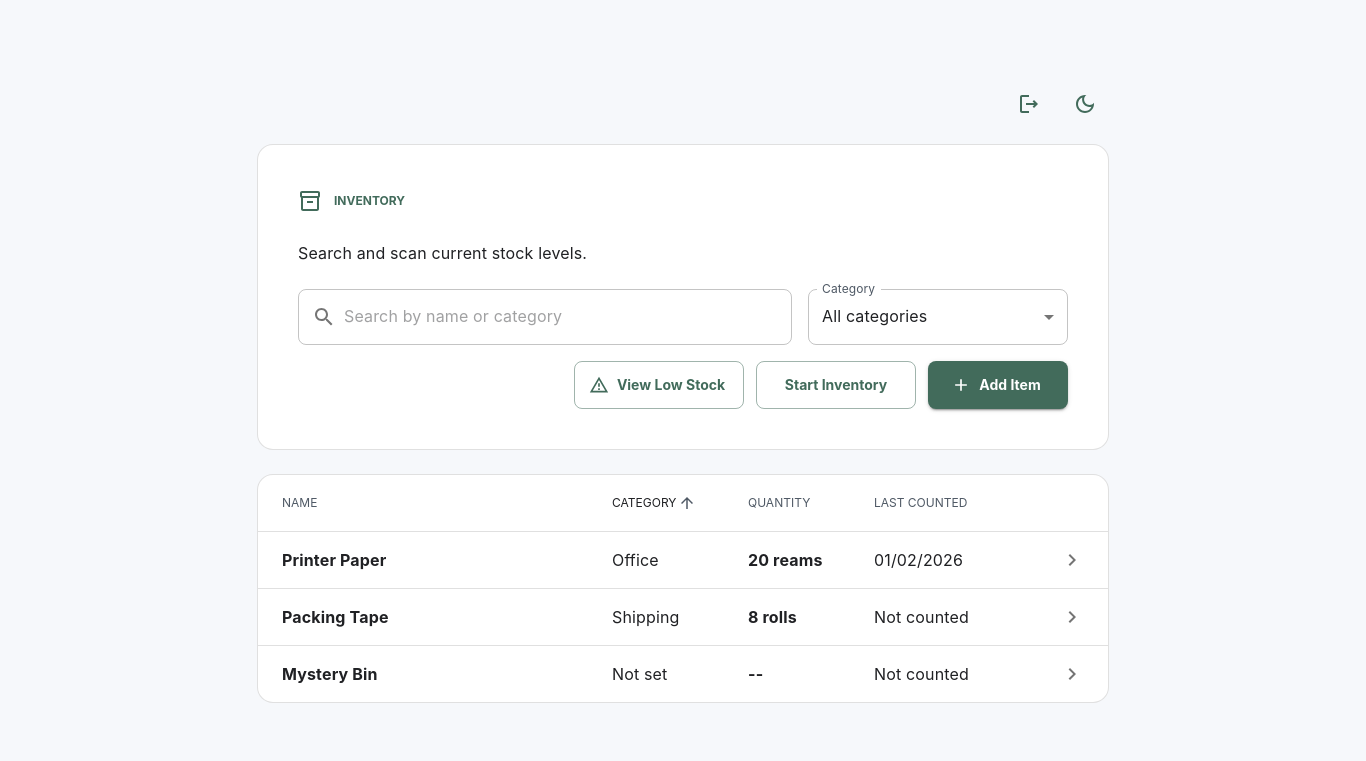
HomePage › confirms before cancelling an active inventory session and clearing the local draft
This screenshot has width=1366, height=761.
Expected: the text "Printer Paper" is shown, [282,550,386,570]
Click the button "Start Inventory" at (836, 385), box [756,361,916,409]
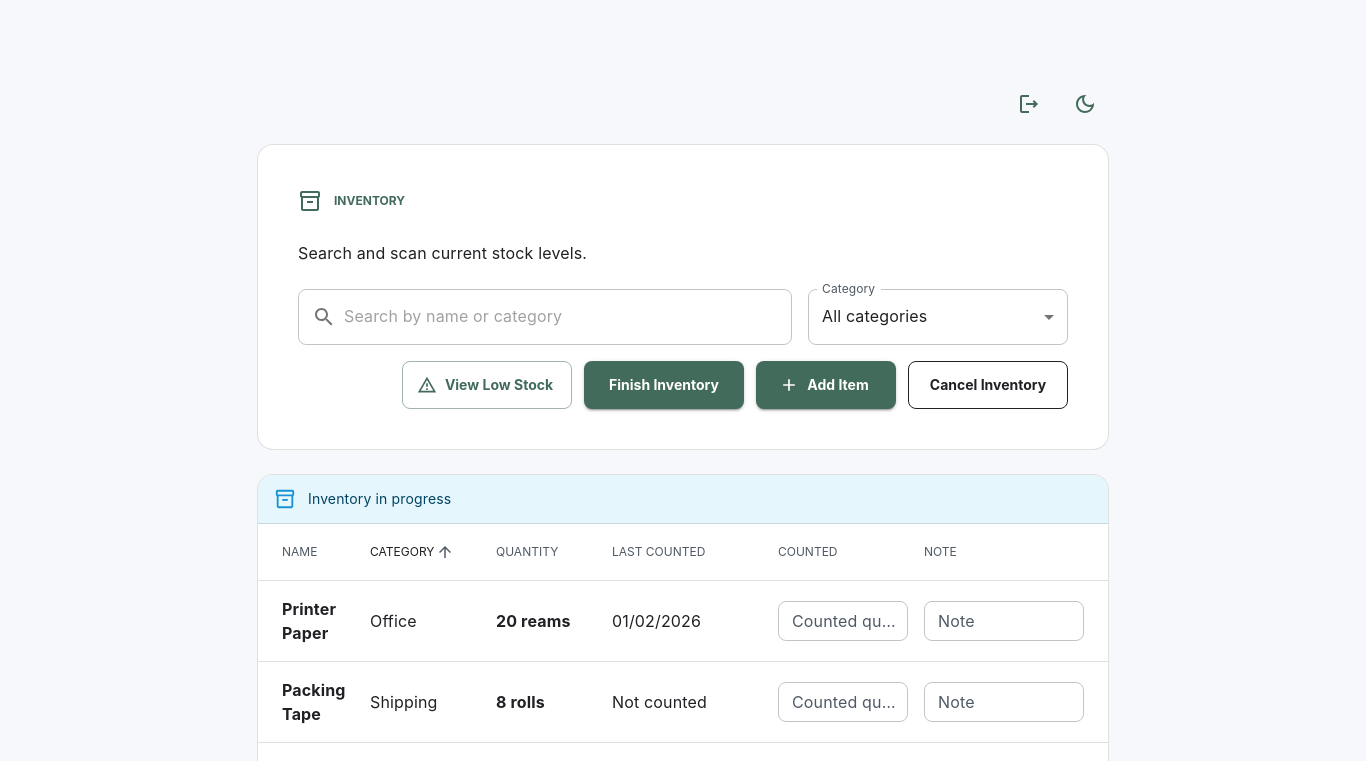
Type "24" into the number field named "Counted quantity for Printer Paper" at (843, 621), box [778,601,908,641]
Type "Front shelf" into the field named "Inventory note for Printer Paper" at (1004, 621), box [924,601,1084,641]
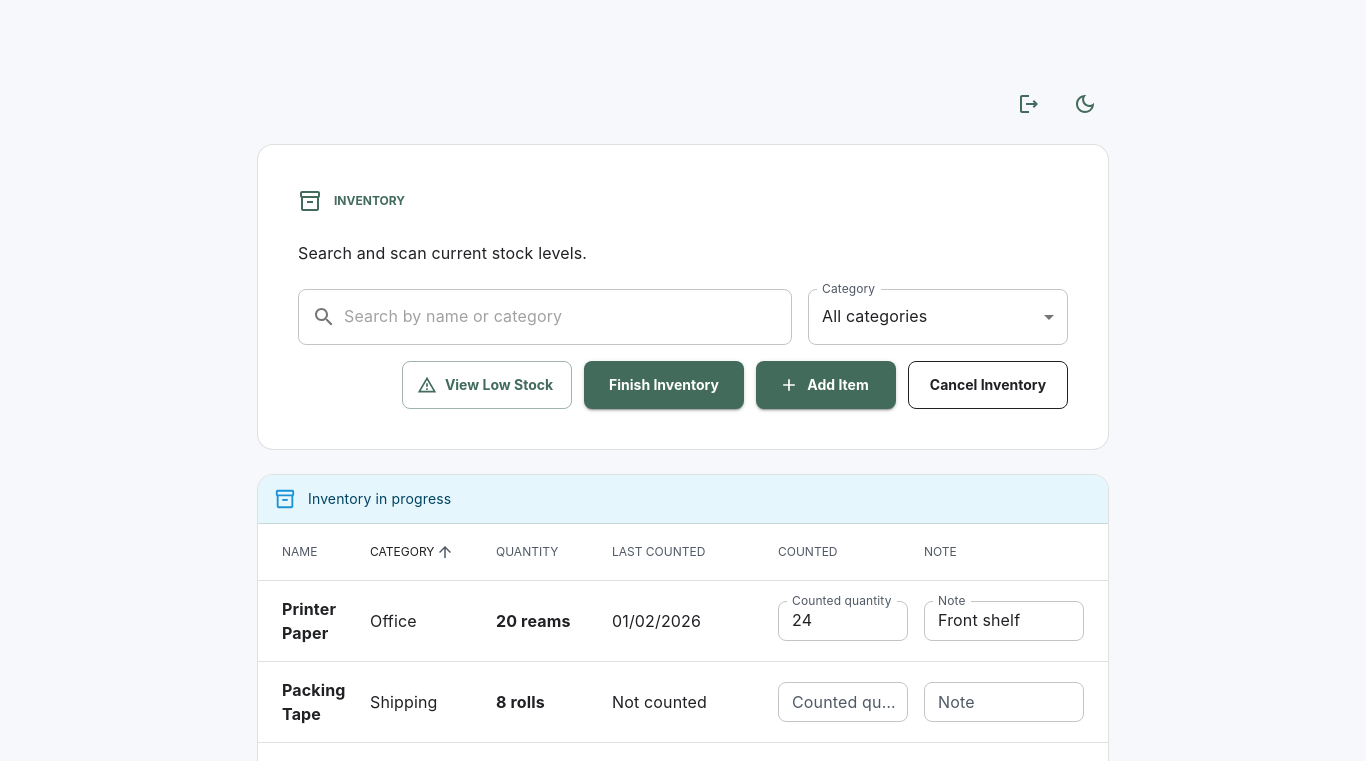
Click the button "Cancel Inventory" at (988, 385), box [908,361,1068,409]
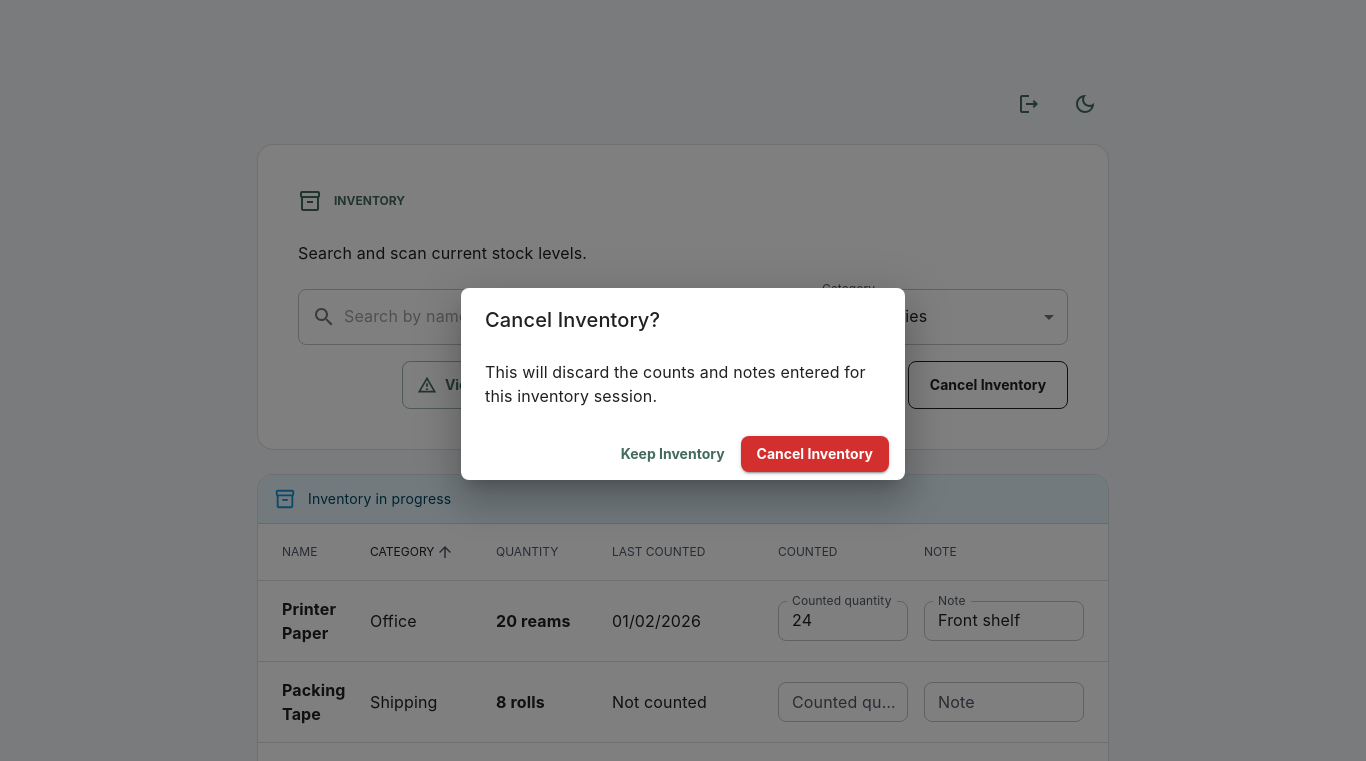
Result: the text "This will discard the counts and notes entered for this inventory session." is shown at [485,352,881,408]
Click the button "Keep Inventory" at (673, 454), box [613,436,733,472]
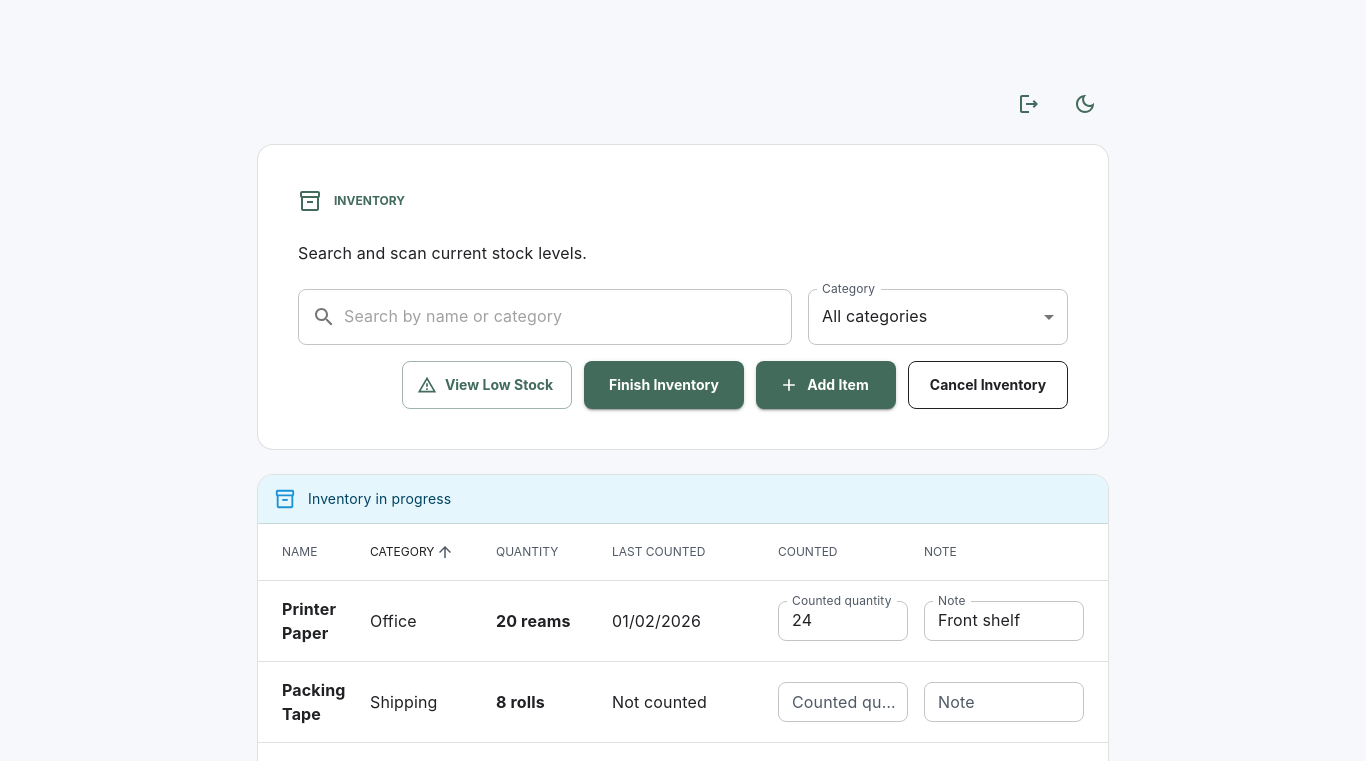
Expected: the dialog "Cancel Inventory?" is not shown
Result: the button "Finish Inventory" is shown at [584,361,744,409]
Click the button "Cancel Inventory" at (988, 385), box [908,361,1068,409]
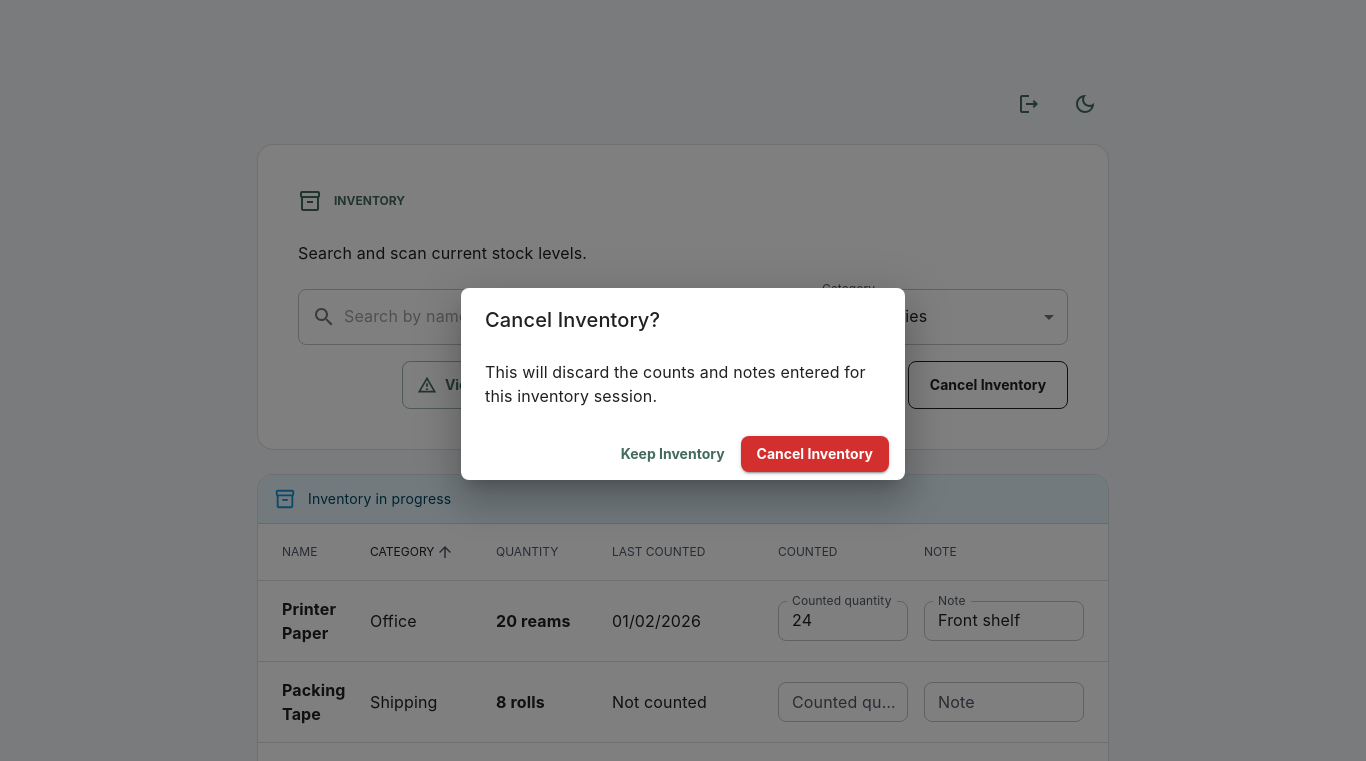
Click the button "Cancel Inventory" at (815, 454), box [741,436,889,472]
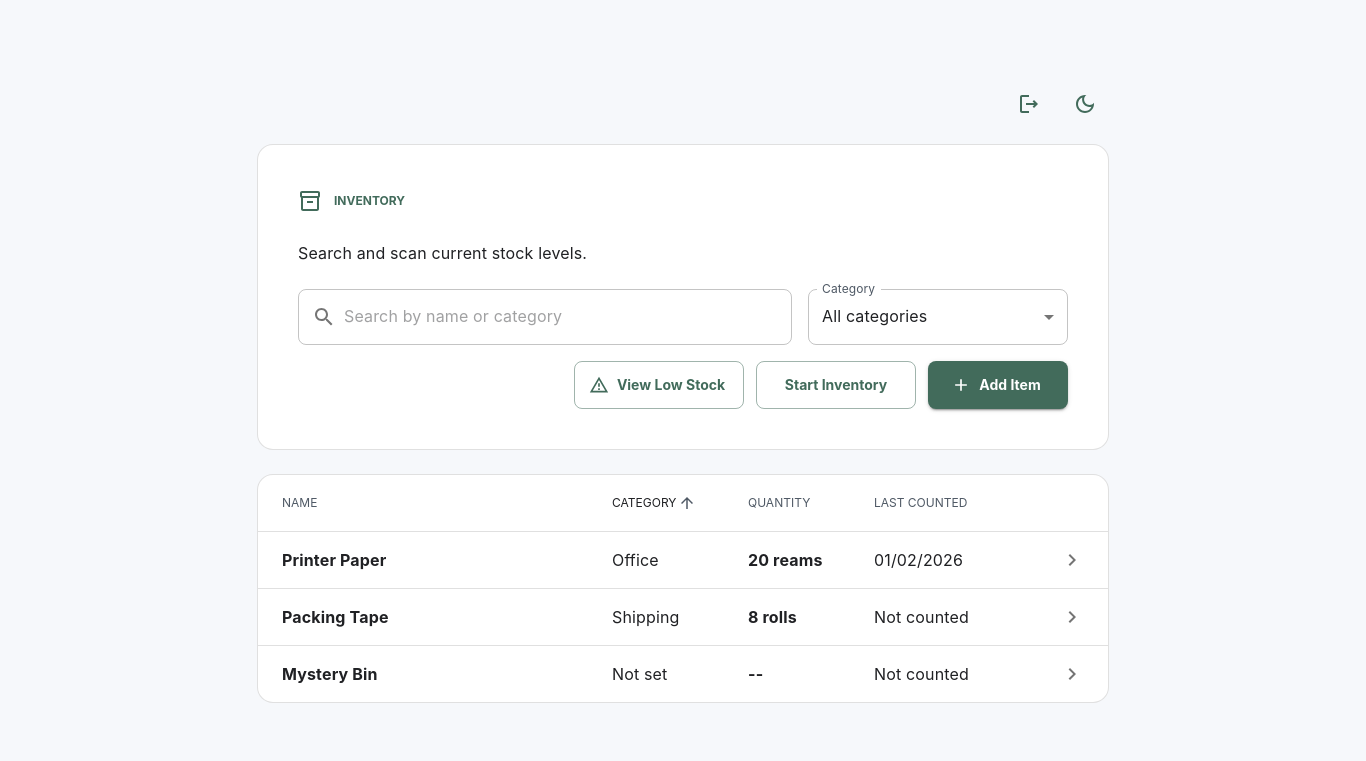
Result: the button "Start Inventory" is shown at [756,361,916,409]
